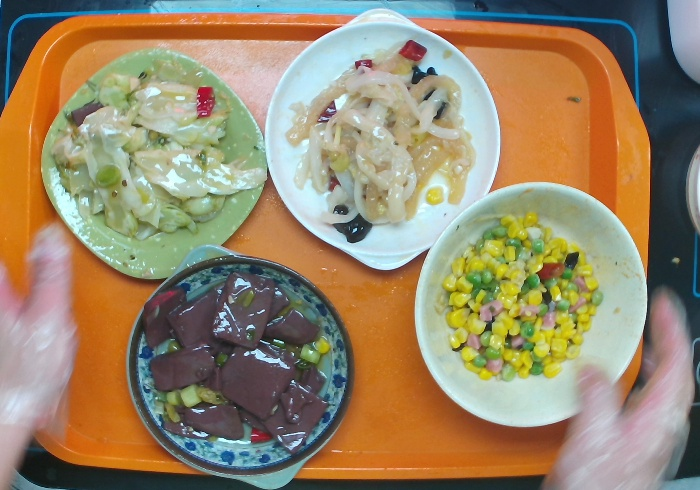NLDX-Bai_Se_Shuang_Er_Die: (270, 7, 506, 274)
NLDX-Bai_Se_Yuan_Wan: (401, 171, 674, 428)
NLDX-Lv_Hua_Fang_Die: (39, 41, 269, 278)
NLDX-Qing_Hua_Shuang_Er_Die: (125, 240, 353, 490)
